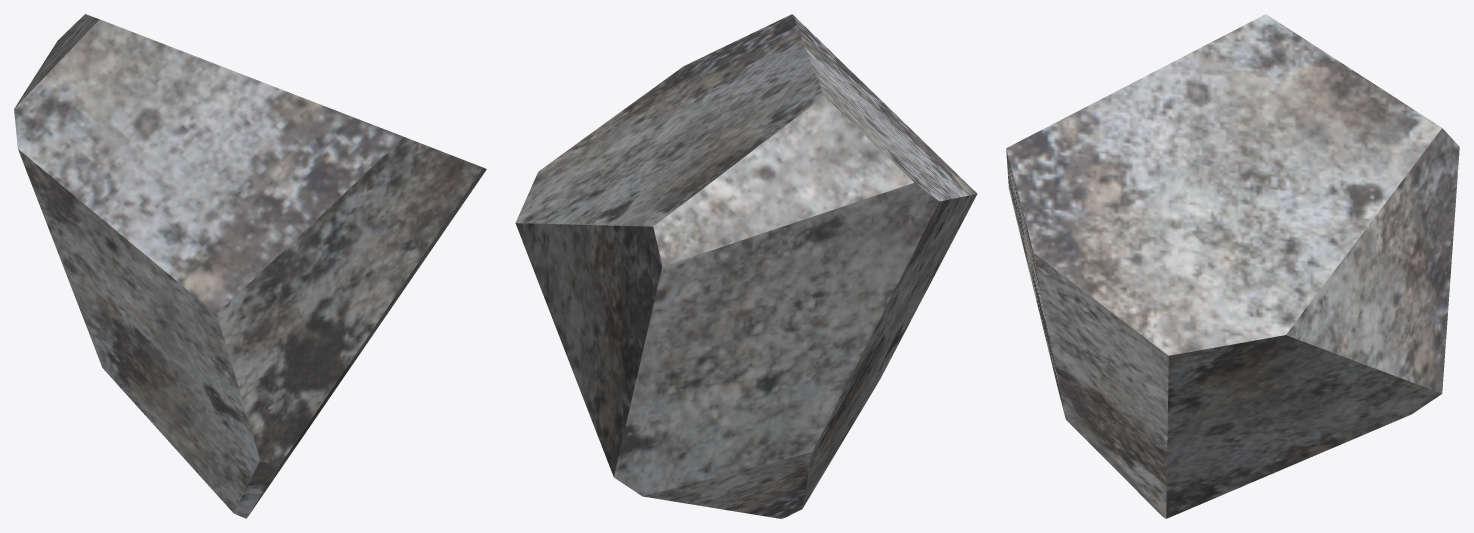
The model's file is Asteroid_Large_001_02_003_03_019.fbx.
The picture shows the model from 3 angles, left to right: view 1: azimuth 30°, elevation 25°; view 2: azimuth 150°, elevation 25°; view 3: azimuth 270°, elevation 25°; orthographic projection. The views are drawn at different scales.
Visible parts, largest first — view 1: Asteroid_Large_001_02_003_03_019; view 2: Asteroid_Large_001_02_003_03_019; view 3: Asteroid_Large_001_02_003_03_019.
Boxes of the visible parts, x1,y1,x2,y2 form: Asteroid_Large_001_02_003_03_019: (14,14,486,518); Asteroid_Large_001_02_003_03_019: (515,14,977,518); Asteroid_Large_001_02_003_03_019: (1006,14,1459,518).
Size of the model in its own units: 7.65 by 8.13 by 7.26.
